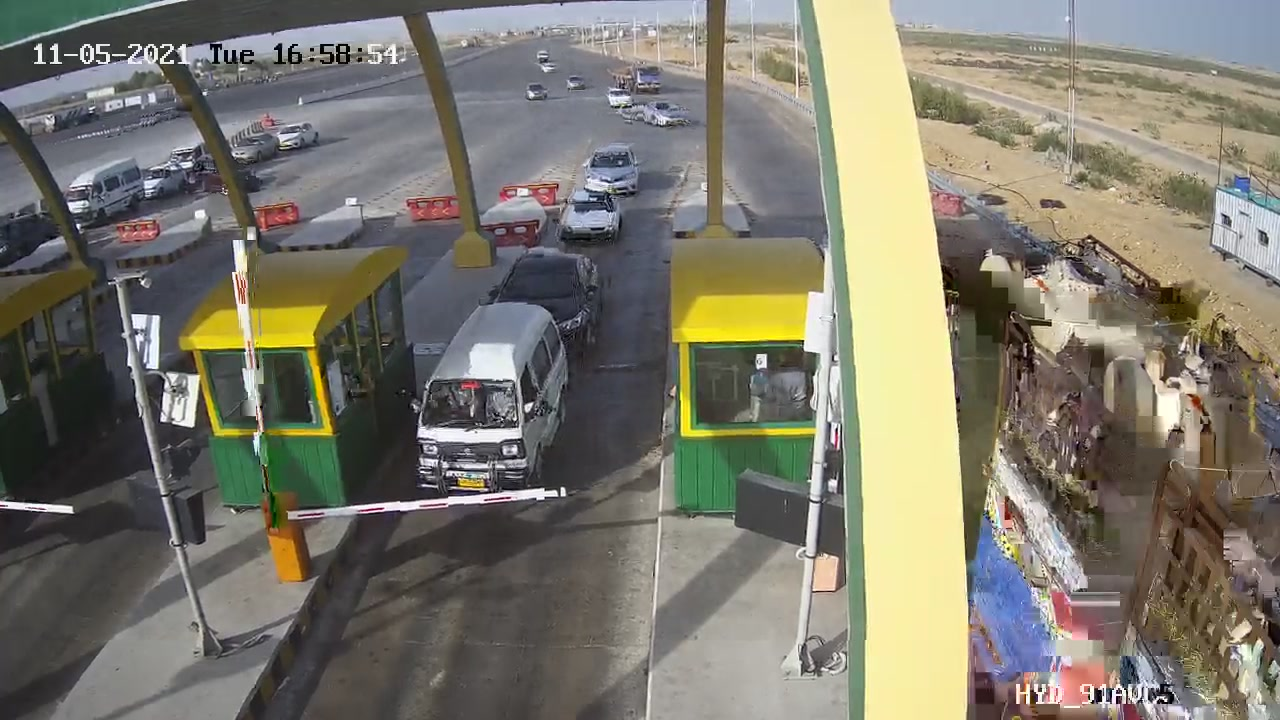F1: (396, 294, 584, 510)
